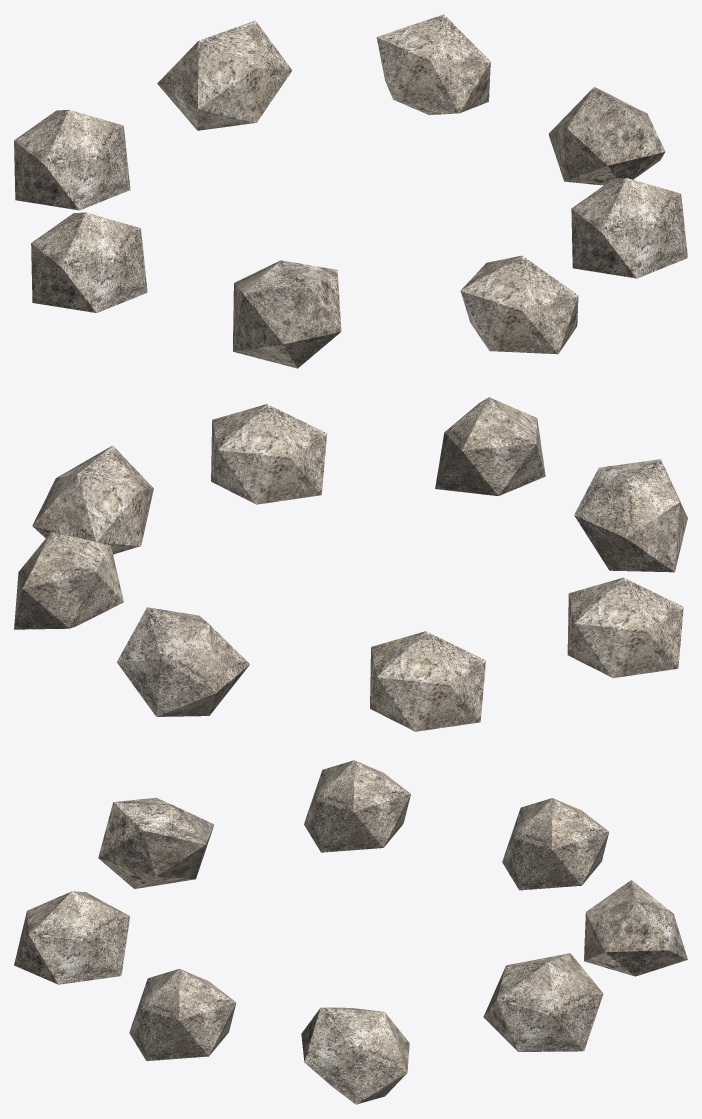
Rendered from campfire-ring.glb.
The picture shows the model from 3 angles, top to bottom: view 1: azimuth 30°, elevation 25°; view 2: azimuth 150°, elevation 25°; view 3: azimuth 270°, elevation 25°; orthographic projection. The views are drawn at different scales.
Parts seen in each view (by area): view 1: Icosphere.006, Icosphere, Icosphere.007, Icosphere.005, Icosphere.003, Icosphere.002, Icosphere.004, Icosphere.001; view 2: Icosphere.003, Icosphere.005, Icosphere, Icosphere.007, Icosphere.006, Icosphere.001, Icosphere.004, Icosphere.002; view 3: Icosphere.004, Icosphere.002, Icosphere.001, Icosphere.005, Icosphere, Icosphere.006, Icosphere.007, Icosphere.003.
Part boxes in pixels (x1,y1,x2,y2): Icosphere.006: (571,178,687,278); Icosphere: (31,212,147,312); Icosphere.007: (14,109,130,210); Icosphere.005: (233,260,341,368); Icosphere.003: (157,20,292,130); Icosphere.002: (460,255,578,354); Icosphere.004: (376,14,490,114); Icosphere.001: (548,86,665,185); Icosphere.003: (117,607,249,716); Icosphere.005: (574,459,687,572); Icosphere: (567,577,683,678); Icosphere.007: (370,631,485,731); Icosphere.006: (211,404,327,504); Icosphere.001: (32,445,153,554); Icosphere.004: (14,531,123,629); Icosphere.002: (435,397,545,495); Icosphere.004: (483,953,603,1051); Icosphere.002: (14,891,130,984); Icosphere.001: (301,1007,409,1104); Icosphere.005: (98,797,214,888); Icosphere: (304,760,410,852); Icosphere.006: (129,969,236,1061); Icosphere.007: (502,798,608,890); Icosphere.003: (584,880,687,976).
Size of the model in its own units: 0.9568 by 0.1649 by 0.9529.
Materials: 1 (1 with a texture image).
